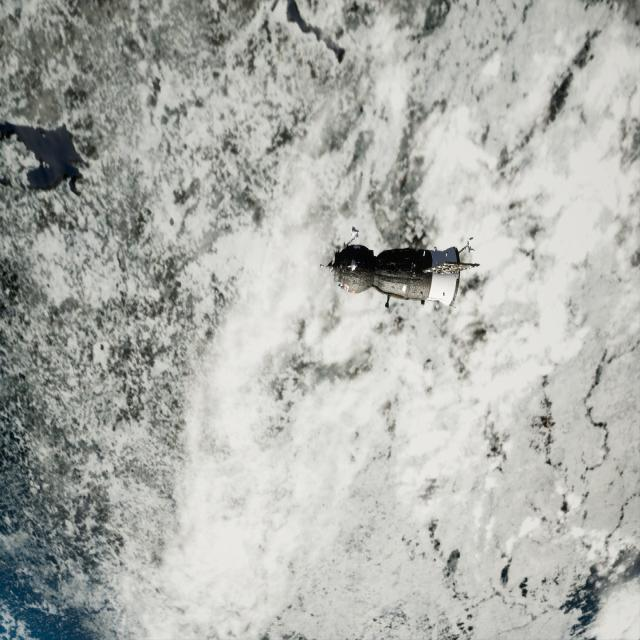Satellites revolving around earth: (319, 226, 481, 312)
